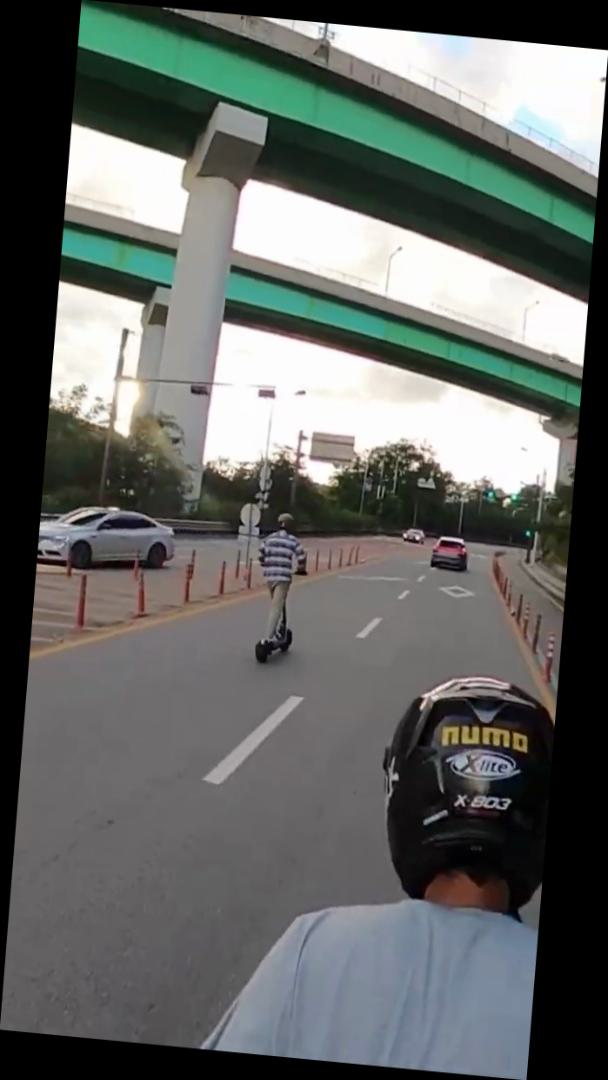helmet: (245, 505, 316, 669)
